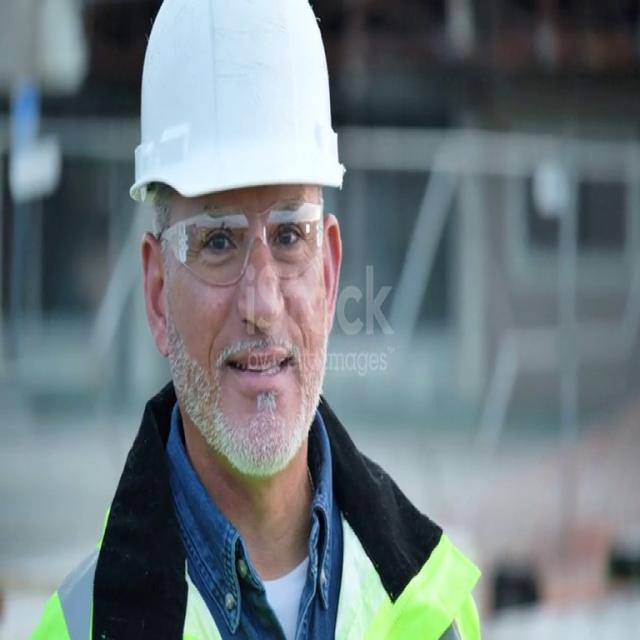capacete: (124, 0, 355, 233)
